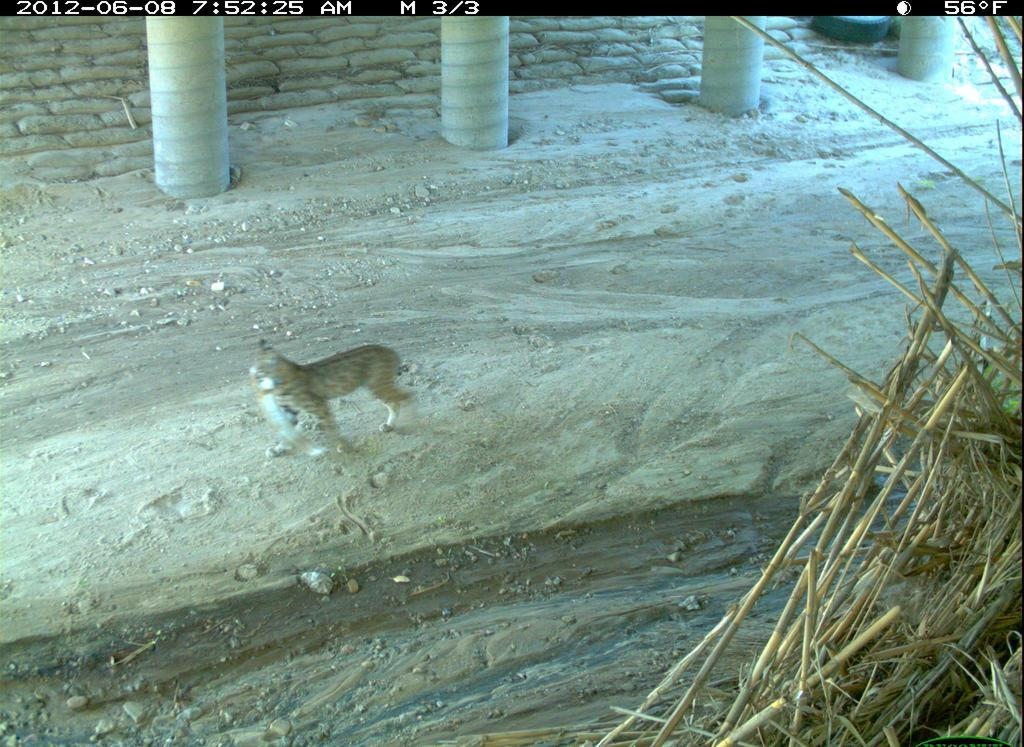bobcat: (228, 318, 456, 474)
